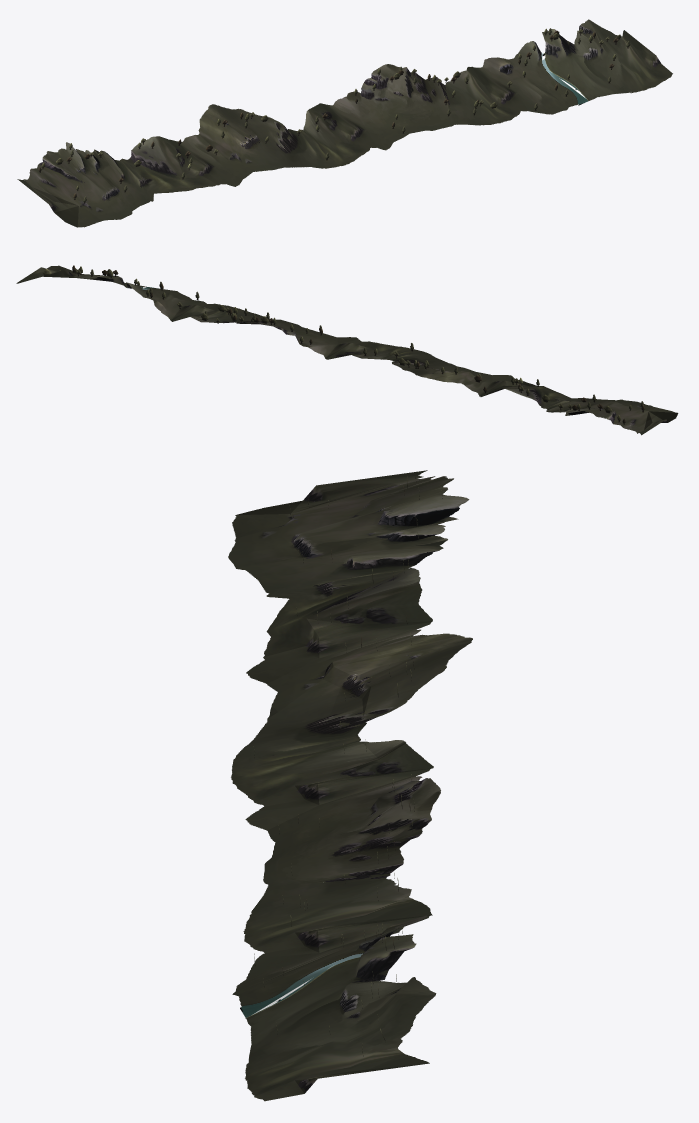
File: Hills_Temp.FBX
The picture shows the model from 3 angles, top to bottom: view 1: azimuth 30°, elevation 25°; view 2: azimuth 150°, elevation 25°; view 3: azimuth 270°, elevation 25°; orthographic projection. The views are drawn at different scales.
Visible parts, largest first — view 1: Hills; view 2: Hills; view 3: Hills.
Part boxes in pixels (left/top/right/bottom): Hills: left=17, top=19, right=672, bottom=227; Hills: left=16, top=265, right=678, bottom=435; Hills: left=228, top=470, right=472, bottom=1101.
Bounding box in the file's own units: 15804 × 3187 × 1237.
Materials: 2 (2 with a texture image).
